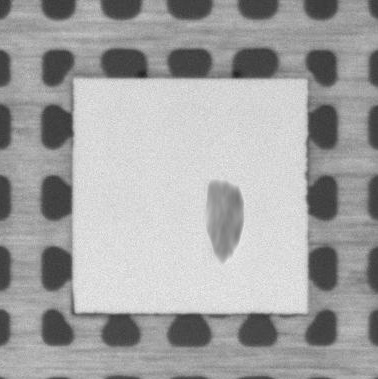DIE_INK: (206, 183, 245, 264)
